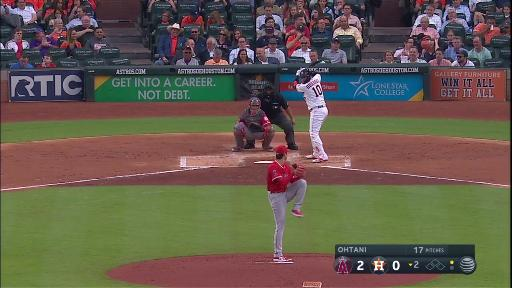pitcher: (265, 145, 308, 263)
